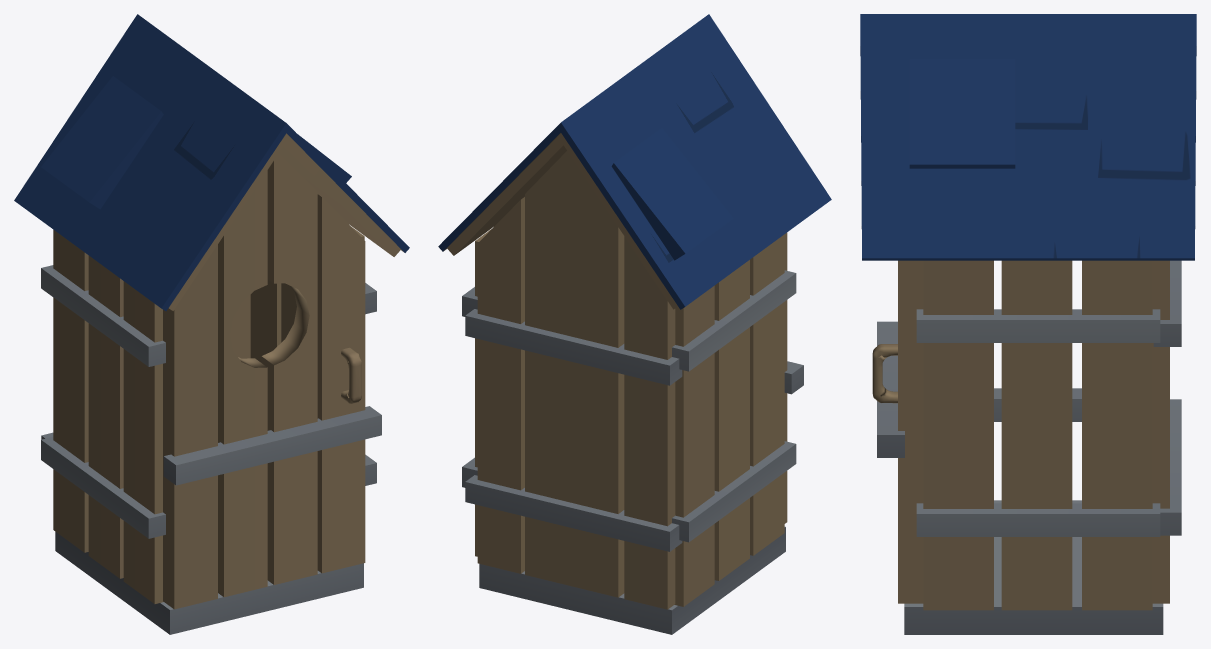
The model's file is SM_Toilet.fbx.
3 views of the same model, side by side, from view 1: azimuth 30°, elevation 25°; view 2: azimuth 150°, elevation 25°; view 3: azimuth 270°, elevation 25° (orthographic). The views are drawn at different scales.
Visible parts, largest first — view 1: SM_Toilet; view 2: SM_Toilet; view 3: SM_Toilet.
Boxes of the visible parts, x1=… form: SM_Toilet: x1=14, y1=14, x2=409, y2=634; SM_Toilet: x1=438, y1=14, x2=831, y2=634; SM_Toilet: x1=860, y1=14, x2=1196, y2=634.
Size of the model in its own units: 173 by 335 by 180.
